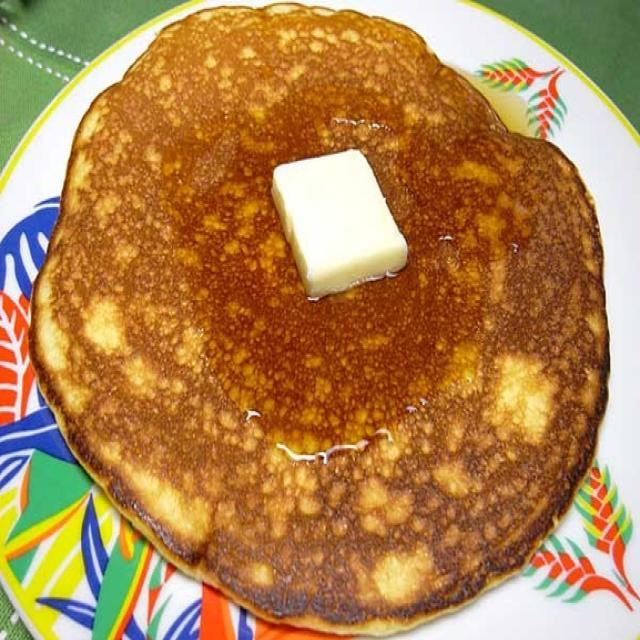蛋糕甜品: (25, 18, 626, 631)
